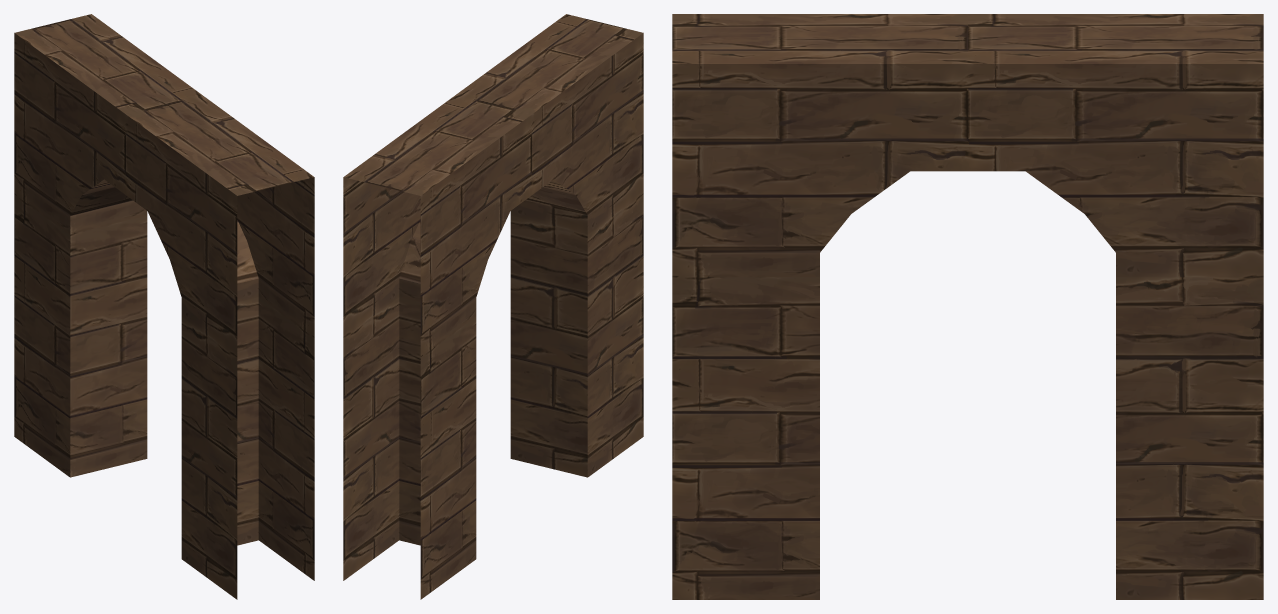
The model's file is Wood_Arch.fbx.
3 renders of one model, left to right at view 1: azimuth 30°, elevation 25°; view 2: azimuth 150°, elevation 25°; view 3: azimuth 270°, elevation 25°, orthographic. The views are drawn at different scales.
Visible parts, largest first — view 1: Wood_Arch; view 2: Wood_Arch; view 3: Wood_Arch.
Boxes of the visible parts, x1,y1,x2,y2 form: Wood_Arch: (14,14,314,599); Wood_Arch: (343,14,643,599); Wood_Arch: (672,14,1263,599).
Size of the model in its own units: 1 by 5 by 5.
Materials: 1 (1 with a texture image).
